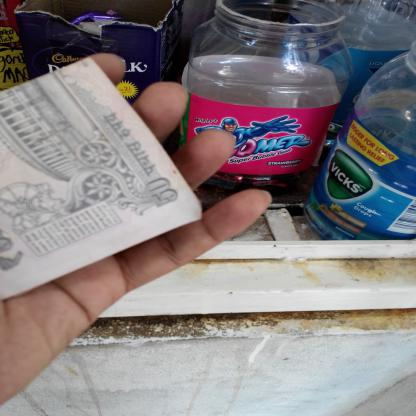Old50Back: (0, 55, 202, 300)
